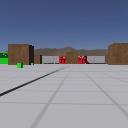green_basket: (1, 52, 8, 64)
green_cube: (17, 62, 23, 68), (31, 63, 34, 66)
obstacle: (8, 43, 34, 65), (108, 42, 127, 65), (66, 52, 78, 64), (34, 55, 42, 64), (105, 54, 109, 65)
red_basket: (59, 55, 87, 64)
